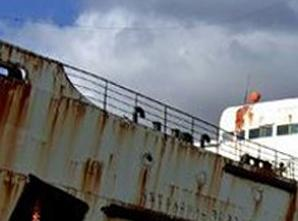rust: (1, 55, 35, 140), (60, 93, 111, 132), (131, 146, 157, 212), (209, 151, 228, 210), (79, 154, 106, 195), (233, 105, 255, 130), (282, 189, 297, 221)
